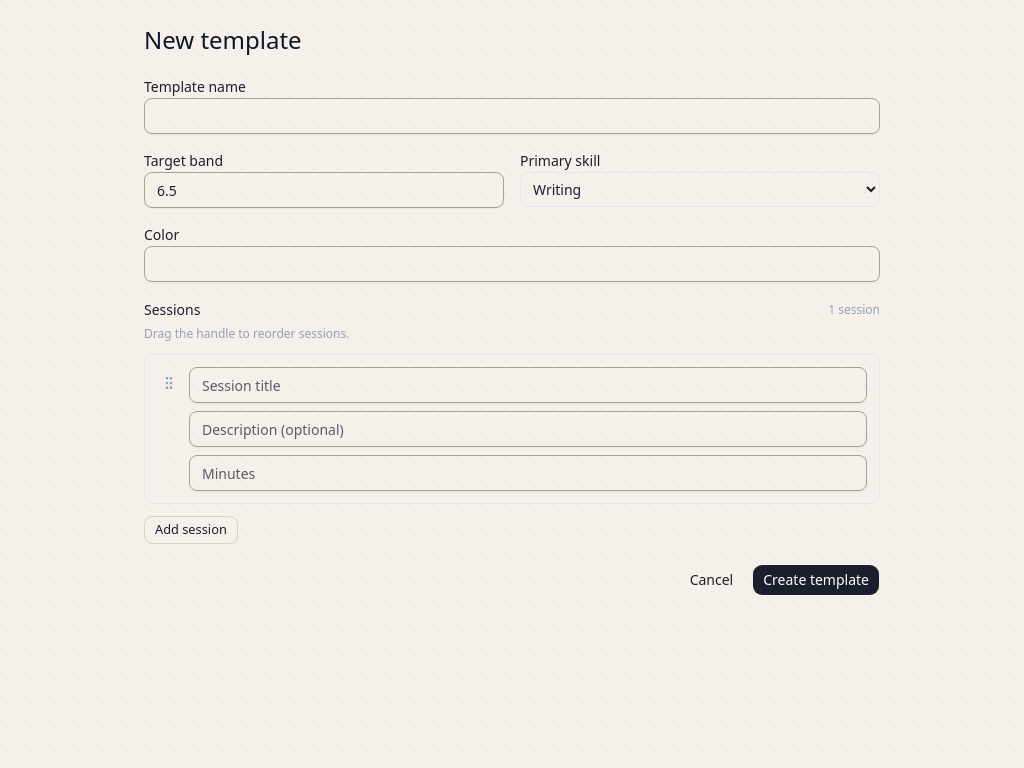
Test: TemplateFormPage (s21) — create › add then remove a session returns to one row
The width and height of the screenshot is (1024, 768).
Click the button with test id "template-add-session" at point(191, 530), box [144,516,238,544]
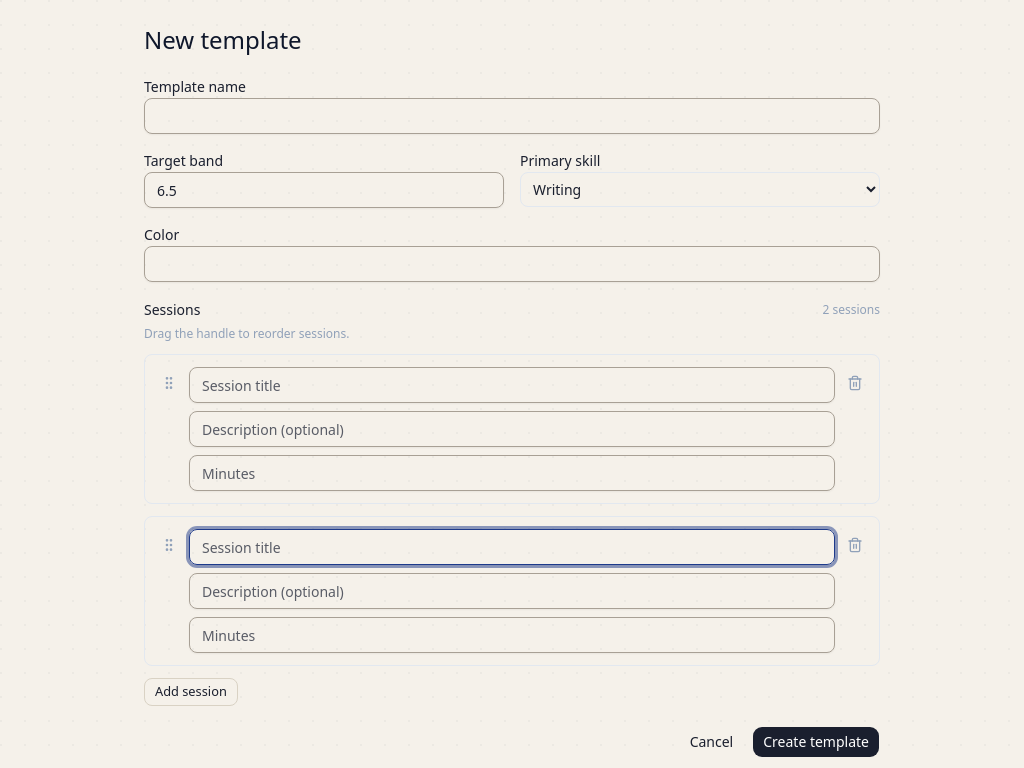
Expected: the list item with test id "template-session-row-1" is shown, [144,516,880,666]
Click the button with test id "template-session-remove-1" at point(855, 545), box [843,533,867,557]
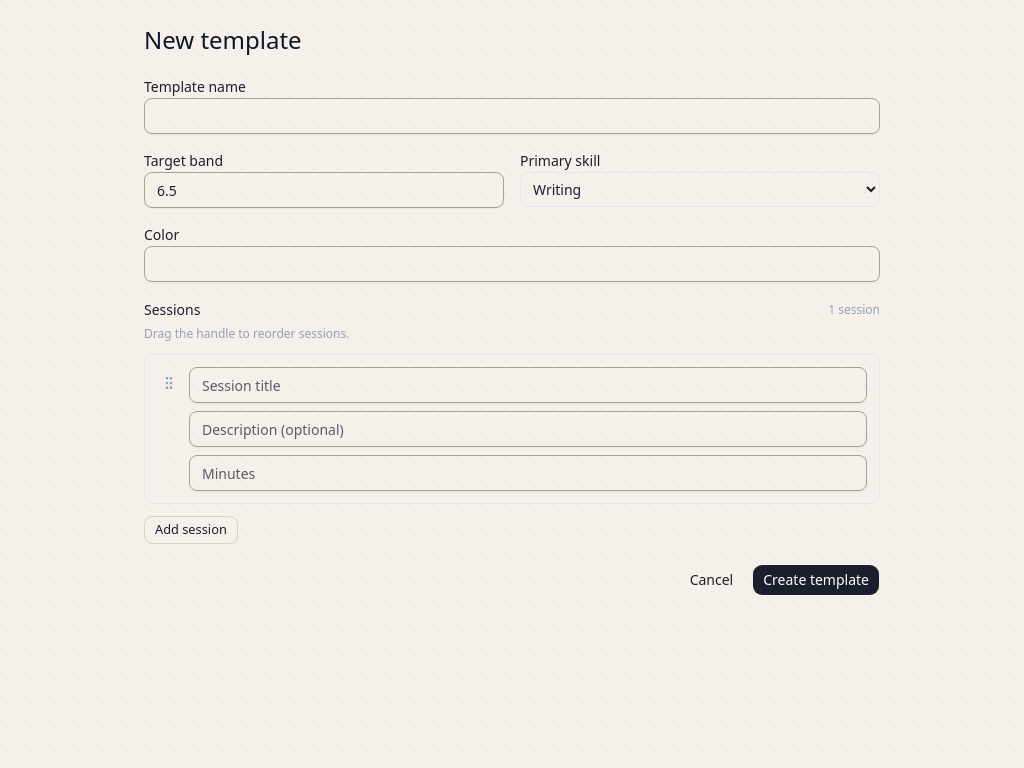
Expected: the list item with test id "template-session-row-1" is gone
